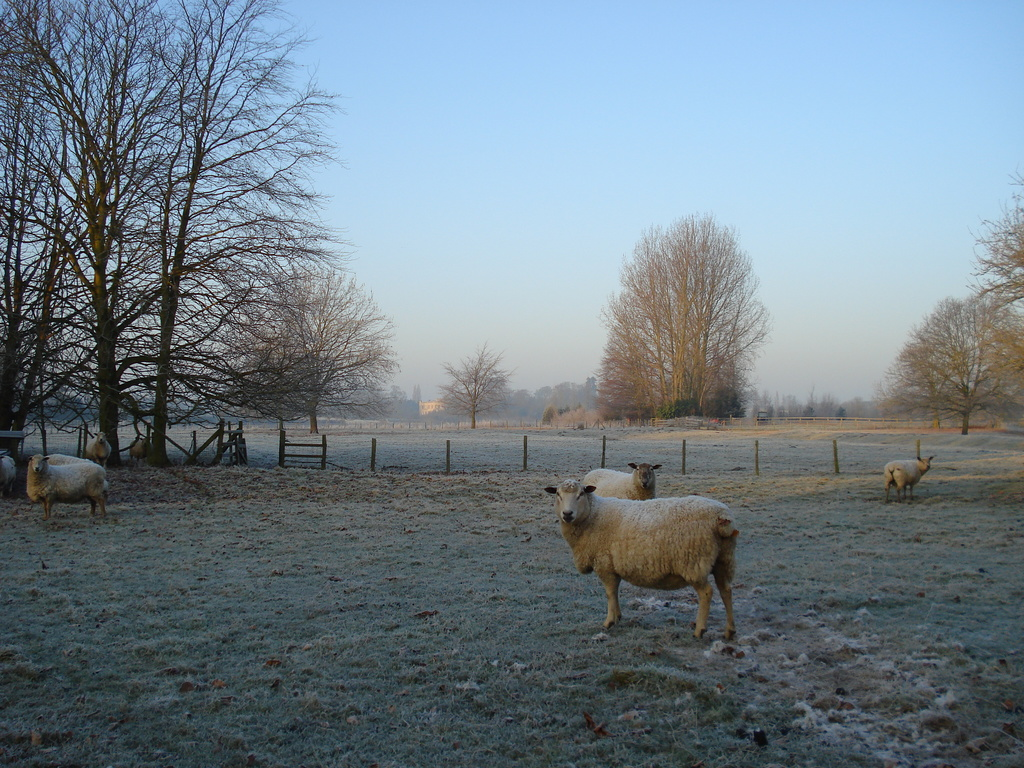sheep: (541, 473, 738, 641), (27, 451, 106, 515), (883, 453, 936, 504), (130, 441, 149, 464)
